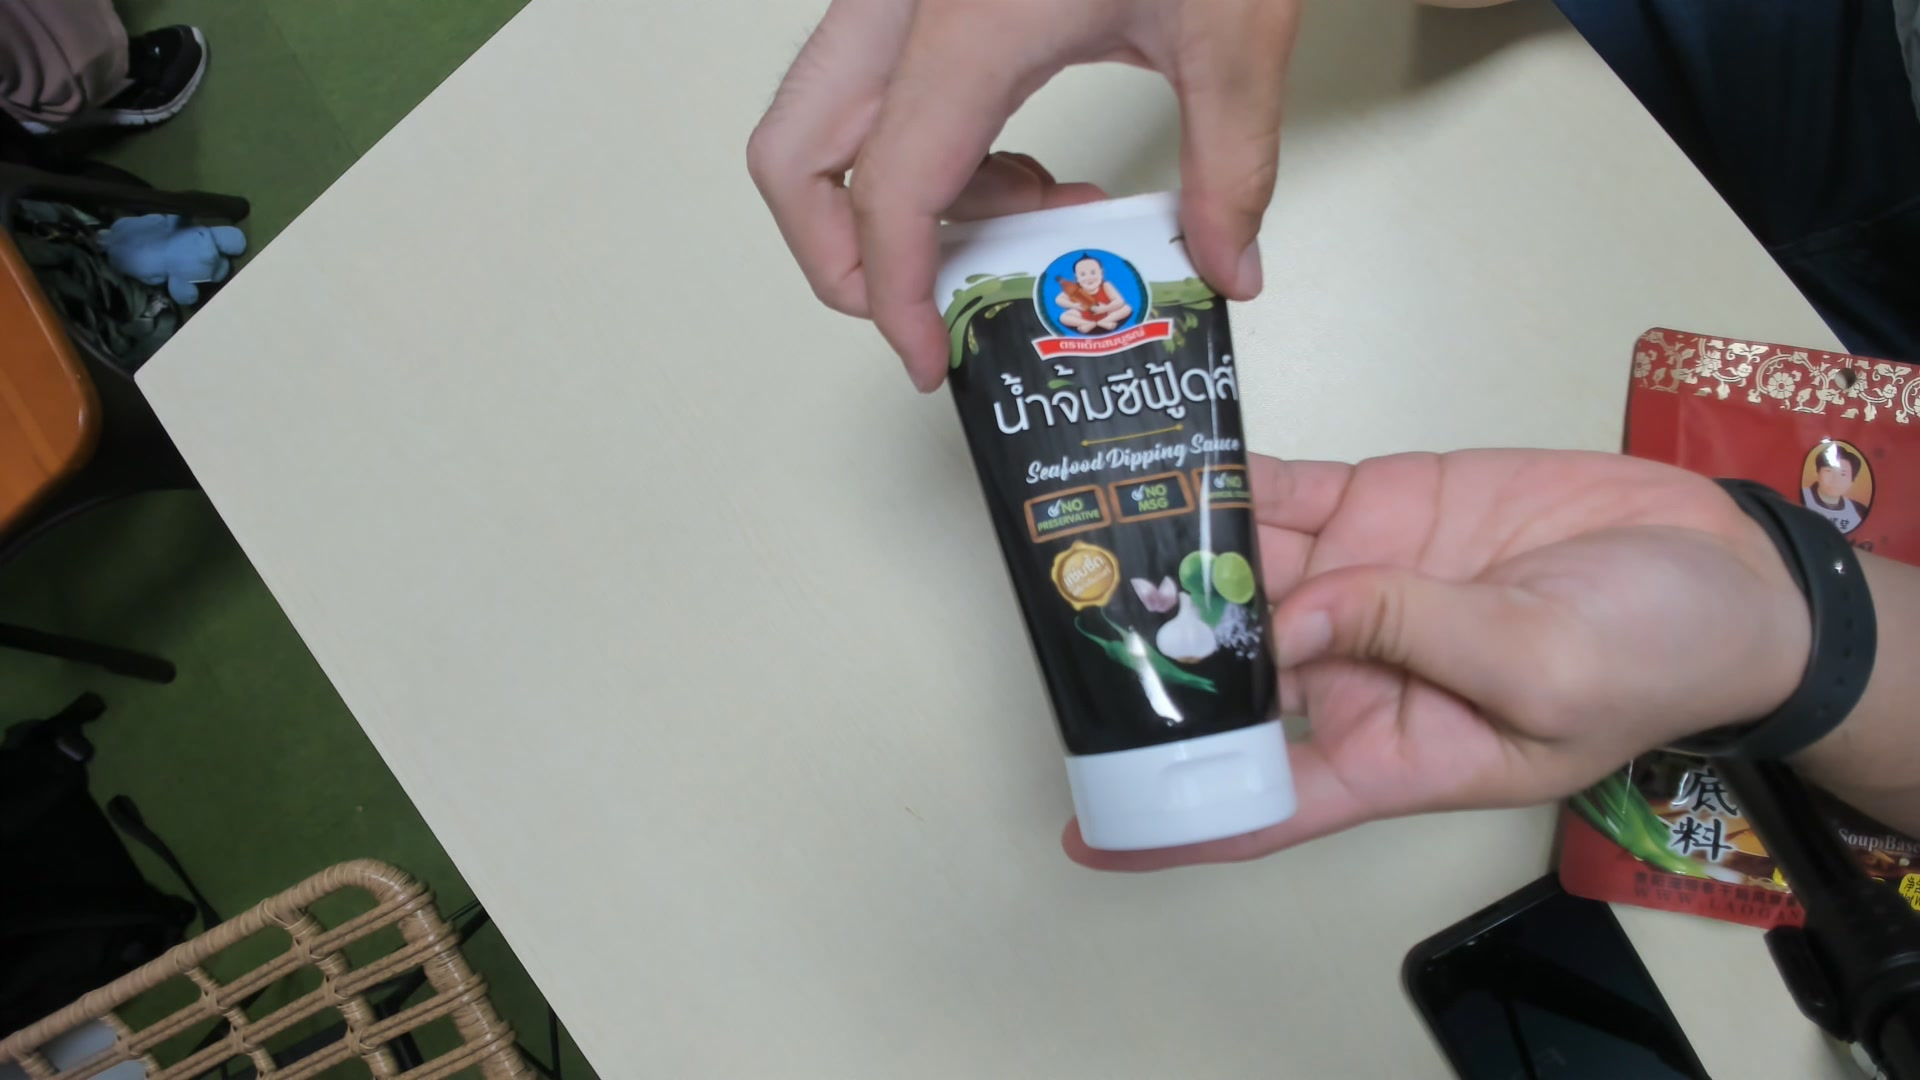OtherSauceDressing_100-199g_NonHalal_NonHealthy: (940, 196, 1294, 858)
